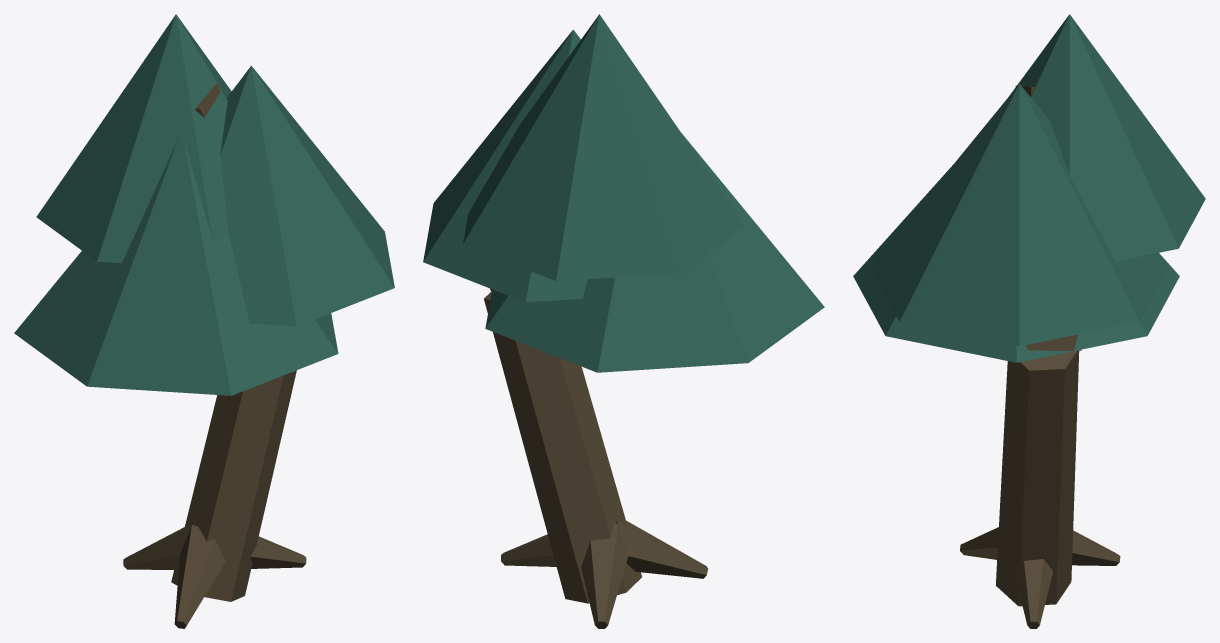
Rendered from map-boundaries-v5__ridge_10.glb.
3 views of the same model, side by side, from view 1: azimuth 30°, elevation 25°; view 2: azimuth 150°, elevation 25°; view 3: azimuth 270°, elevation 25° (orthographic). The views are drawn at different scales.
Visible parts, largest first — view 1: ridge_10; view 2: ridge_10; view 3: ridge_10.
Part boxes in pixels (left/top/right/bottom): ridge_10: left=14, top=14, right=394, bottom=628; ridge_10: left=423, top=14, right=824, bottom=628; ridge_10: left=853, top=14, right=1205, bottom=628.
Size of the model in its own units: 1.52 by 2.48 by 1.39.
